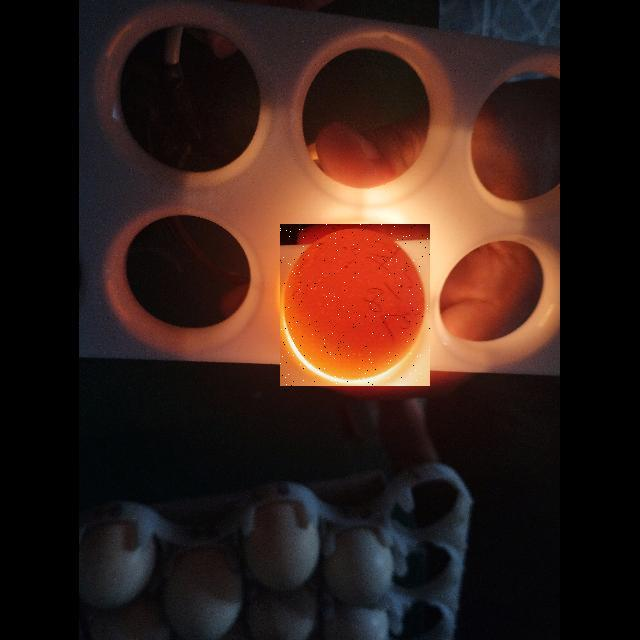Infertile: (280, 224, 430, 386)
